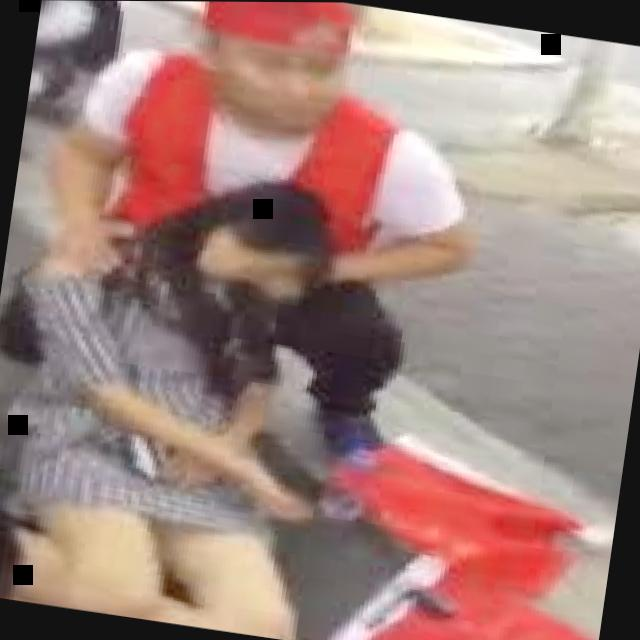Fall-Detected: (0, 133, 378, 640)
